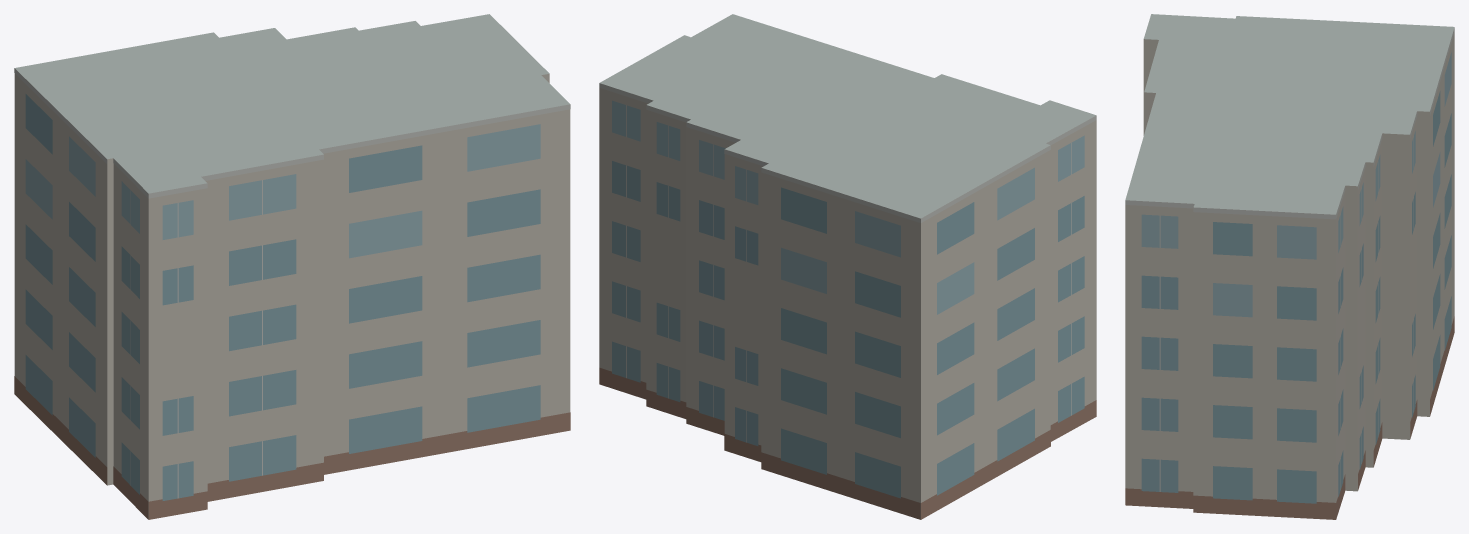
File: survey-upis-32620668.glb
3 renders of one model, left to right at view 1: azimuth 30°, elevation 25°; view 2: azimuth 150°, elevation 25°; view 3: azimuth 270°, elevation 25°, orthographic. The views are drawn at different scales.
Visible parts, largest first — view 1: survey-upis-32620668.tmp; view 2: survey-upis-32620668.tmp; view 3: survey-upis-32620668.tmp.
Boxes of the visible parts, x1=… form: survey-upis-32620668.tmp: x1=14, y1=14, x2=570, y2=519; survey-upis-32620668.tmp: x1=599, y1=14, x2=1096, y2=519; survey-upis-32620668.tmp: x1=1125, y1=14, x2=1454, y2=519.
Size of the model in its own units: 22.44 by 15.9 by 15.57.
